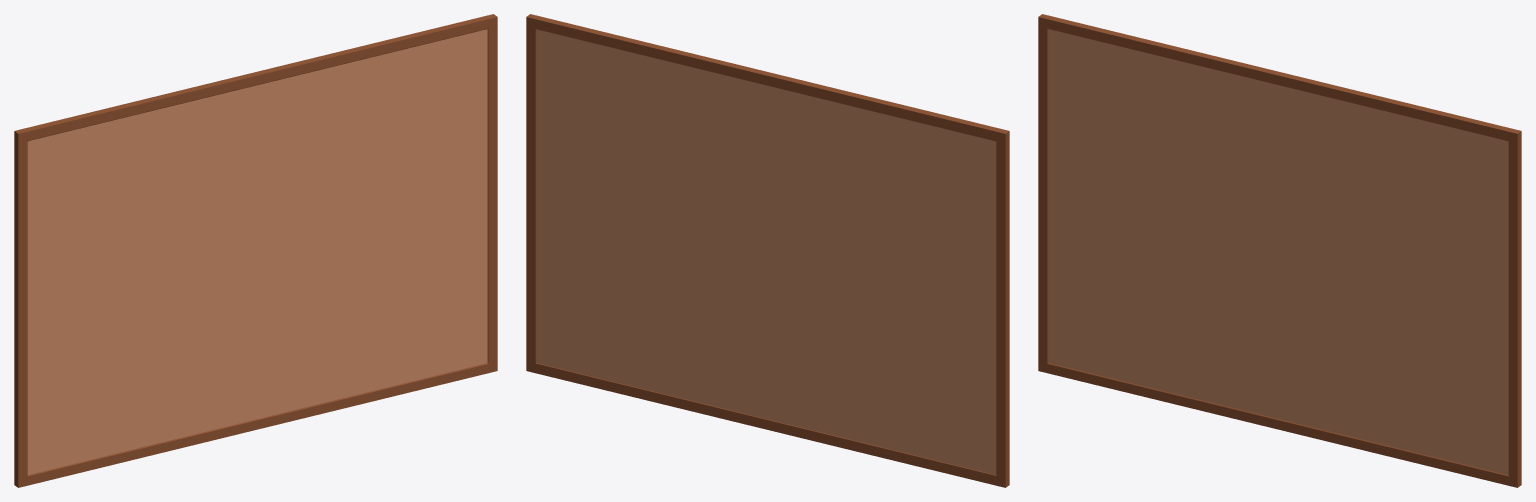
Rendered from Panel Corcho.fbx.
3 renders of one model, left to right at view 1: azimuth 30°, elevation 25°; view 2: azimuth 150°, elevation 25°; view 3: azimuth 330°, elevation 25°, orthographic.
Visible parts, largest first — view 1: Cube.004; view 2: Cube.004; view 3: Cube.004.
Boxes of the visible parts, x1=… form: Cube.004: x1=14, y1=14, x2=497, y2=487; Cube.004: x1=526, y1=14, x2=1009, y2=487; Cube.004: x1=1038, y1=14, x2=1521, y2=487.
Size of the model in its own units: 102 by 72 by 1.5.
